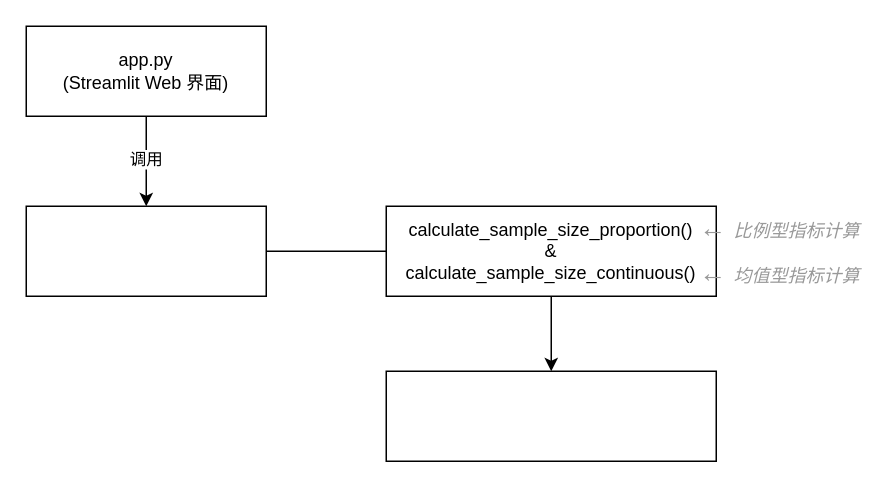
The diagram is 893 pixels wide and 488 high, and some of its shapes have lost their labels. The box of each missing label's shape, as (x1, y1, x2, y2) in pixels:
sample_size_calc.py: (25, 205, 266, 296)
statsmodels / numpy (第三方统计库): (385, 370, 716, 461)
